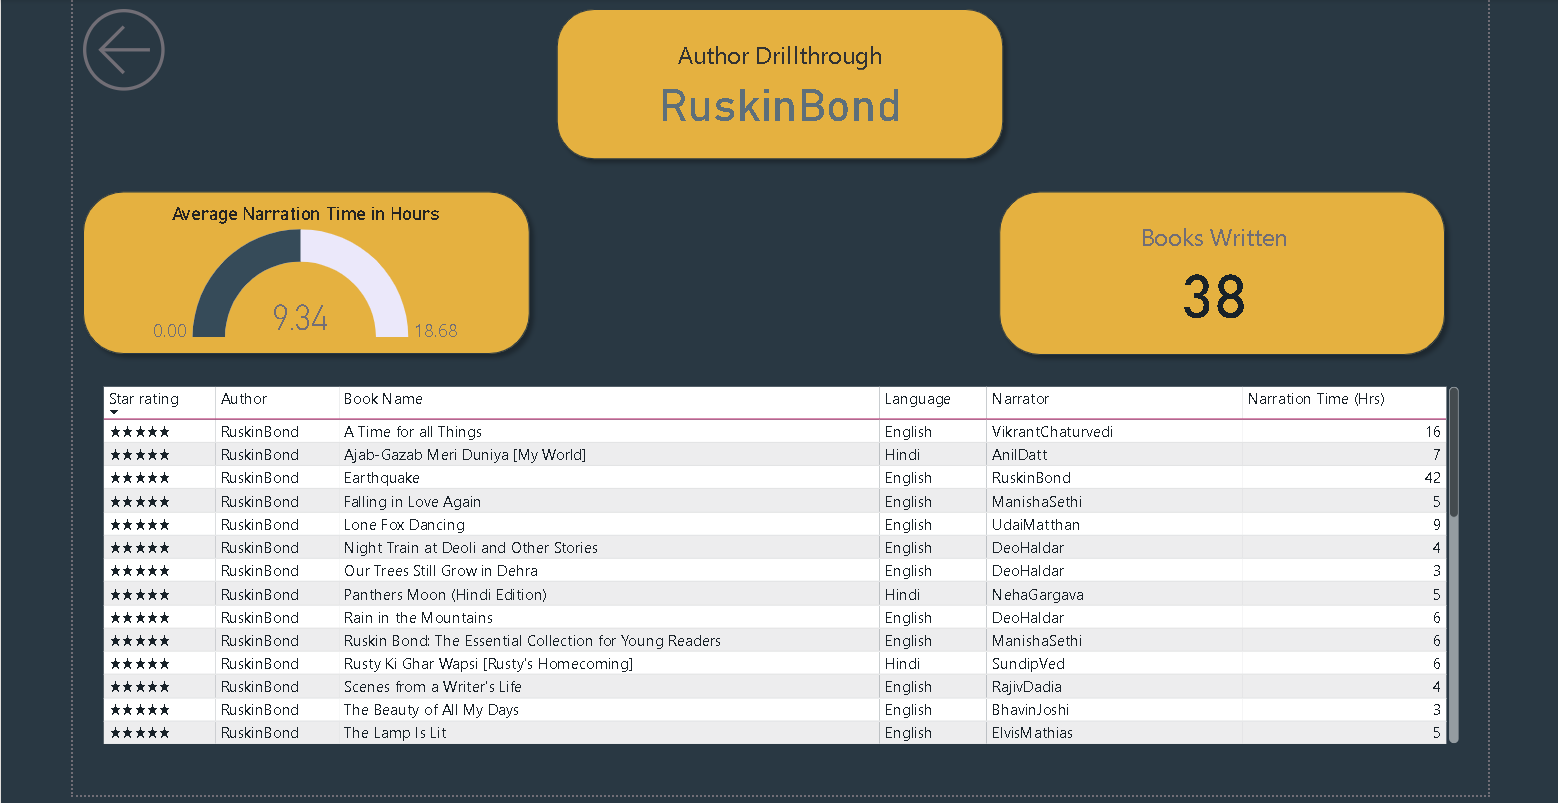

What the dashboard file says about the page in this screenshot:
{"tool":"powerbi","page":{"name":"Drill Through","canvas":[1280,720],"ordinal":1},"visuals":[{"type":"group","id":"g1","title":"Background","box":[0,0,1250.1,330.7],"z":0},{"type":"tableEx","fields":{"Values":["audible_uncleaned.Median of Ratings Out of 5 star rating","audible_uncleaned.Author","audible_uncleaned.Book Name","audible_uncleaned.Language","audible_uncleaned.Narrator","audible_uncleaned.Narration Time (Hrs)"]},"box":[21.4,346.4,1237.2,332.1],"z":1000},{"type":"gauge","fields":{"Y":["Avg(audible_uncleaned.Narration Time (Hrs))"]},"box":[20.6,183.9,380.1,131.7],"z":2000},{"type":"cardVisual","fields":{"Data":["Min(audible_uncleaned.Author)"]},"box":[451.1,18.7,377.9,114],"z":3000},{"type":"shape","box":[0,165.1,422.1,165.1],"z":3000,"group":"g1"},{"type":"cardVisual","fields":{"Data":["CountNonNull(audible_uncleaned.Book Name)"]},"box":[828.8,183.9,407.5,131.7],"z":4000},{"type":"actionButton","box":[0,0,100.2,91.9],"z":5000},{"type":"shape","box":[828.8,164.7,421.3,166],"z":7000,"group":"g1"},{"type":"shape","box":[429,0,421.9,153.9],"z":8000,"group":"g1"}]}

Visuals, with their boxes on the page's 1280x720 design canvas (x1, y1, x2, y2). These are canvas units, not pixel positions in the 1558x803 screenshot, which may show the page scaled, cropped or inside an application window:
"Background" group: box(0, 0, 1250, 331)
tableEx - audible_uncleaned.Median of Ratings Out of 5 star rating x audible_uncleaned.Author: box(21, 346, 1259, 678)
gauge - Avg(audible_uncleaned.Narration Time (Hrs)): box(21, 184, 401, 316)
cardVisual - Min(audible_uncleaned.Author): box(451, 19, 829, 133)
shape: box(0, 165, 422, 330)
cardVisual - CountNonNull(audible_uncleaned.Book Name): box(829, 184, 1236, 316)
actionButton: box(0, 0, 100, 92)
shape: box(829, 165, 1250, 331)
shape: box(429, 0, 851, 154)
